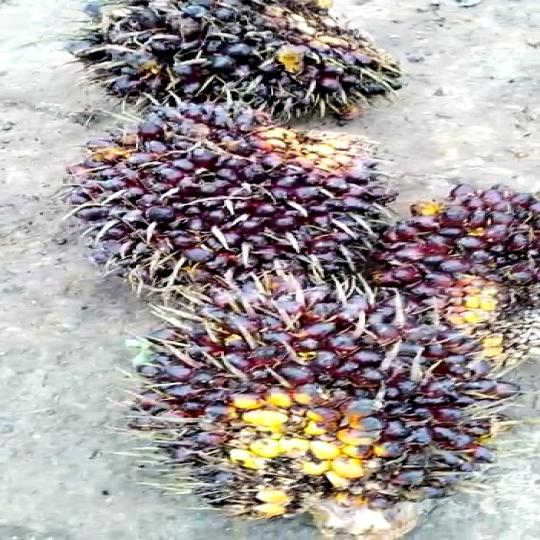kurang masak: (139, 284, 522, 540), (56, 85, 414, 292), (69, 0, 430, 122), (366, 154, 540, 370)
